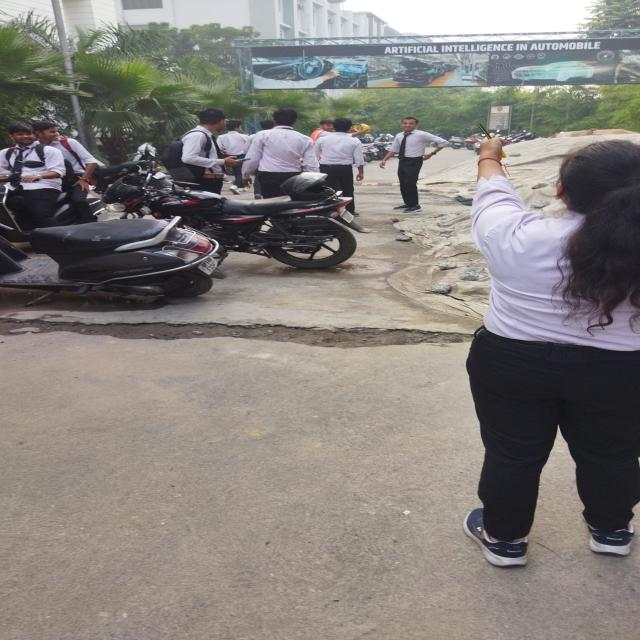unsafe: (459, 141, 640, 570), (6, 124, 59, 221), (253, 111, 315, 192), (319, 120, 360, 208), (390, 116, 427, 213), (180, 110, 223, 188), (223, 118, 250, 194)
